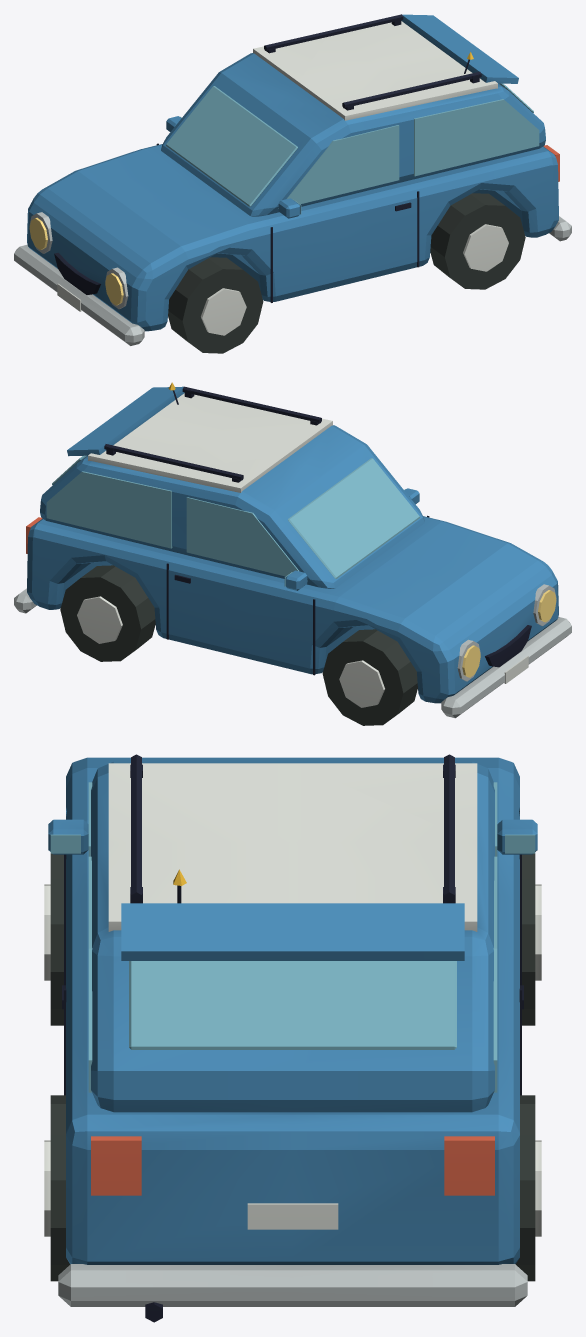
File: sm_vehicle_parked_hatchback.glb
3 views of the same model, one above another, from view 1: azimuth 30°, elevation 25°; view 2: azimuth 150°, elevation 25°; view 3: azimuth 270°, elevation 25° (orthographic). The views are drawn at different scales.
Visible parts, largest first — view 1: CarBody, Cabin, Roof, Windshield, SideWindow.003, Tyre, Tyre.002, SideWindow.001, Bumper, Spoiler, Hubcap.002, Hubcap (+4 smaller); view 2: CarBody, Cabin, Roof, Windshield, SideWindow.002, Tyre.003, Tyre.001, SideWindow, Bumper, Spoiler, Hubcap.001, Hubcap.003 (+4 smaller); view 3: CarBody, Roof, Cabin, RearWindow, Spoiler, RearBumper, TailLights, Tyre.002, Tyre.003, RearPlate, Tyre, Tyre.001 (+6 smaller).
Boxes of the visible parts, x1,y1,x2,y2 form: CarBody: (27,144,558,331); Cabin: (161,53,545,216); Roof: (253,21,497,120); Windshield: (166,86,297,206); SideWindow.003: (413,99,539,176); Tyre: (168,257,263,353); Tyre.002: (430,193,525,289); SideWindow.001: (278,125,399,208); Bumper: (14,244,144,345); Spoiler: (401,14,518,83); Hubcap.002: (463,224,508,271); Hubcap: (201,288,246,335); CarBody: (27,516,558,703); Cabin: (40,425,424,588); Roof: (88,393,332,492); Windshield: (288,458,419,578); SideWindow.002: (46,471,172,548); Tyre.003: (60,565,155,661); Tyre.001: (322,629,417,725); SideWindow: (186,497,298,576); Bumper: (441,617,571,718); Spoiler: (67,386,184,456); Hubcap.001: (339,660,384,707); Hubcap.003: (77,596,122,643); CarBody: (66,757,519,1264); Roof: (108,763,477,931); Cabin: (91,761,494,1112); RearWindow: (129,961,456,1049); Spoiler: (121,903,464,960); RearBumper: (58,1264,527,1306); TailLights: (91,1136,494,1195); Tyre.002: (50,1095,69,1281); Tyre.003: (516,1095,535,1281); RearPlate: (247,1203,338,1229); Tyre: (50,853,63,1025); Tyre.001: (522,853,535,1025).
Size of the model in its own units: 4.11 by 1.84 by 1.97.
